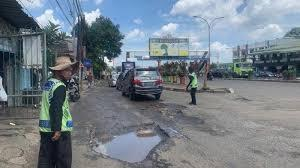Pothole: (84, 113, 185, 168)
